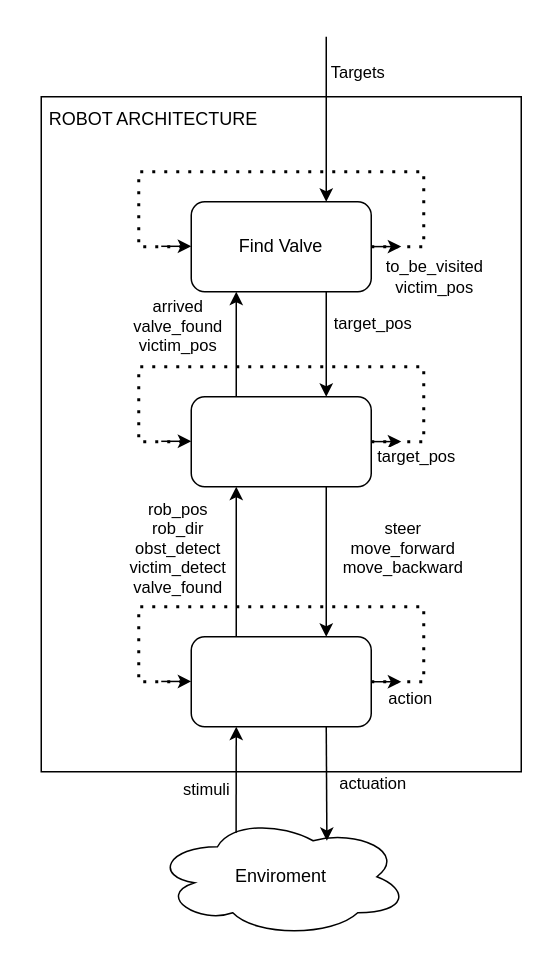
Image size: 548x963. Some labels were removed from this diagram. The box of each missing label's shape, as (x1, y1, x2, y2) in pixels:
move, report obstacles, victims, valve, robot pos: (190, 635, 371, 727)
reach target, detect victims, avoid obstacles: (190, 395, 371, 487)
